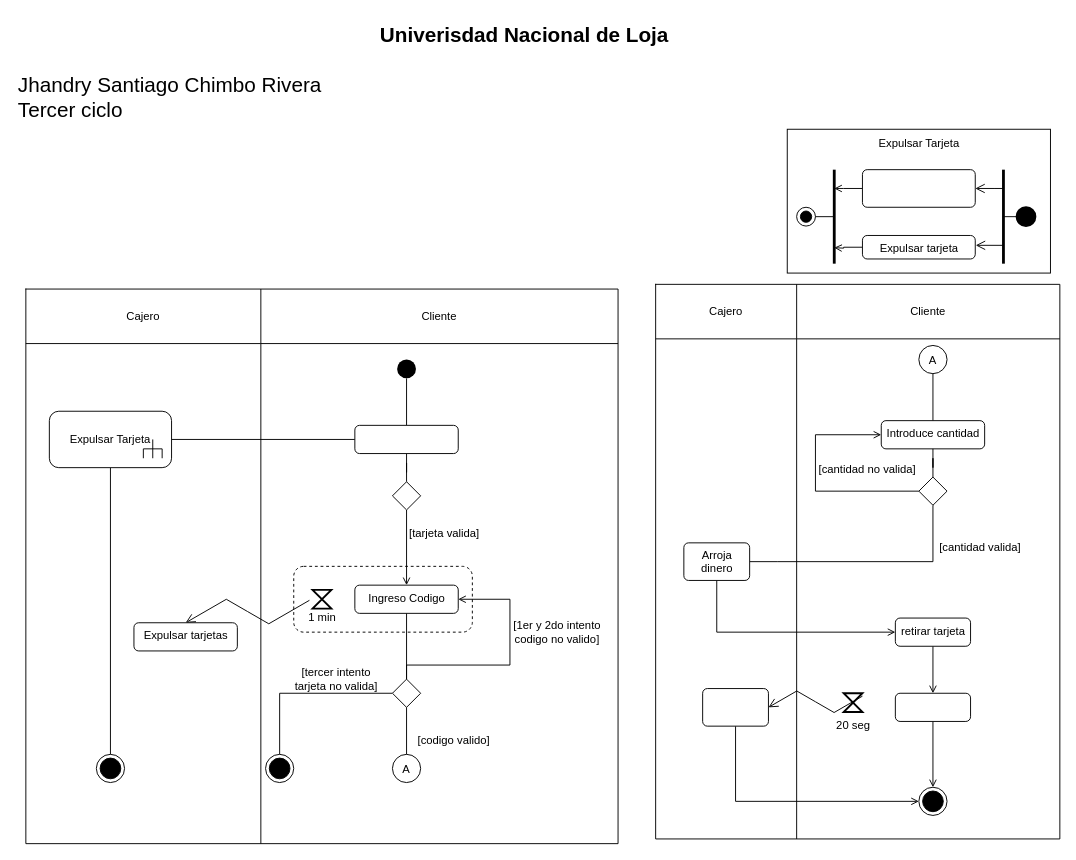
The diagram is 1076 pixels wide and 860 high, and some of its shapes have lost their labels. Here are the shapes that lost their labels. From the top down, the box of each, then its label:
(862, 169, 975, 207): muestra mshj Tarjeta no valida
(354, 424, 458, 454): Insertar tarjeta
(702, 688, 768, 726): Retener dinero
(894, 692, 971, 721): retirar dinero
